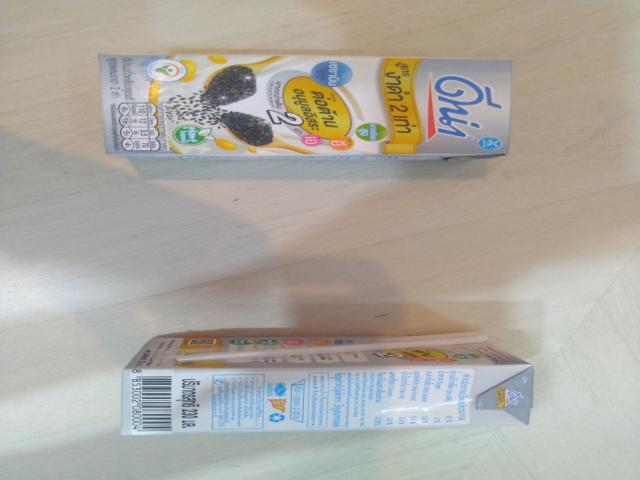drink_box: (91, 50, 526, 172), (115, 330, 544, 440)
